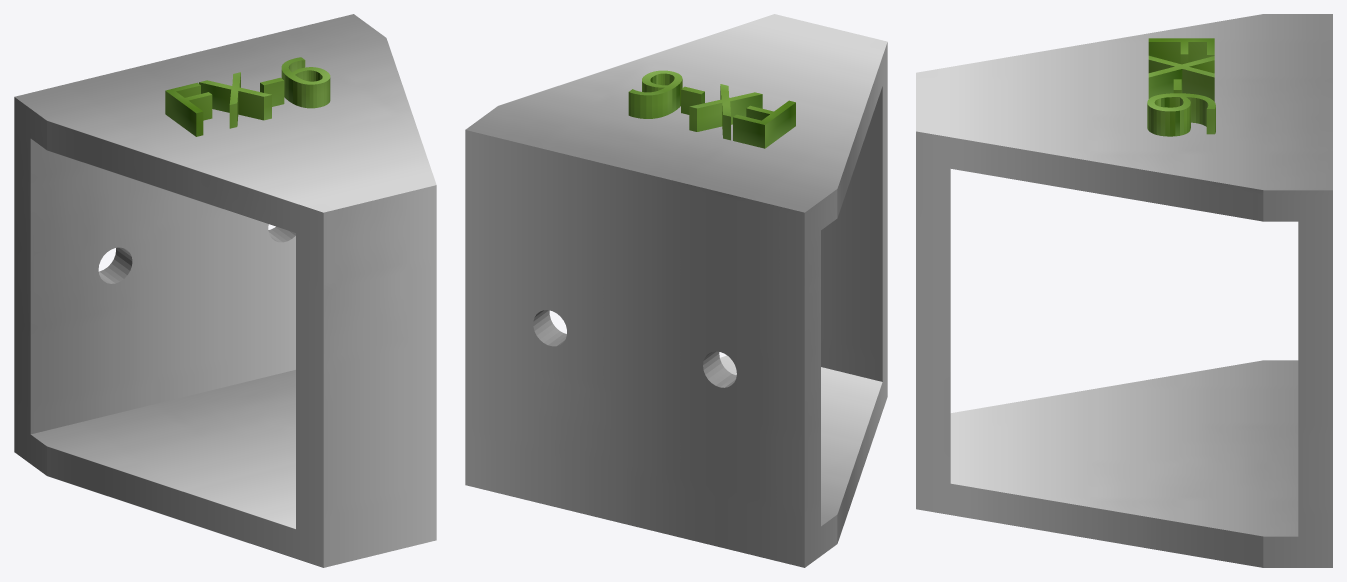
The picture shows the model from 3 angles, left to right: view 1: azimuth 30°, elevation 25°; view 2: azimuth 150°, elevation 25°; view 3: azimuth 270°, elevation 25°; orthographic projection. The views are drawn at different scales.
Parts seen in each view (by area): view 1: C-Component#12, C-FX-6; view 2: C-Component#12, C-FX-6; view 3: C-Component#12, C-FX-6.
Boxes of the visible parts, x1,y1,x2,y2 form: C-Component#12: (14, 14, 436, 567); C-FX-6: (165, 57, 330, 136); C-Component#12: (465, 14, 887, 567); C-FX-6: (628, 70, 795, 148); C-Component#12: (916, 14, 1332, 567); C-FX-6: (1147, 38, 1215, 136).
Bounding box in the file's own units: 0.03 × 0.032 × 0.03.
Materials: 2 (2 with a texture image).
